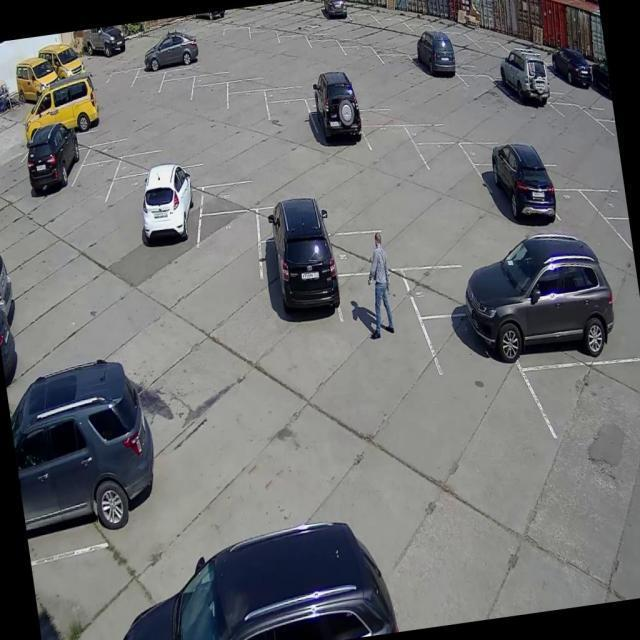car: (13, 416, 171, 544), (425, 316, 521, 446), (508, 274, 626, 360), (260, 228, 342, 338), (478, 156, 554, 241), (139, 191, 204, 266), (20, 137, 91, 194), (312, 94, 358, 158), (502, 74, 550, 130), (416, 46, 454, 100), (137, 46, 197, 80), (550, 53, 590, 101), (322, 0, 349, 24)
free: (30, 542, 184, 640), (540, 358, 640, 467), (338, 269, 416, 372), (404, 258, 506, 320), (192, 210, 266, 290), (328, 222, 418, 276), (364, 121, 422, 198), (553, 187, 608, 266), (418, 140, 473, 218), (252, 192, 340, 238), (104, 174, 156, 250), (201, 175, 287, 216), (70, 160, 119, 214), (459, 126, 516, 172), (558, 94, 604, 150), (116, 146, 184, 180), (405, 113, 458, 153), (588, 183, 630, 231), (462, 69, 500, 122), (534, 157, 585, 195), (146, 162, 214, 190), (88, 132, 148, 163), (271, 103, 311, 149), (230, 91, 268, 139), (342, 40, 380, 88), (356, 99, 410, 130), (380, 48, 416, 94), (310, 38, 348, 78), (436, 28, 474, 66), (278, 29, 311, 72), (160, 58, 210, 86), (377, 8, 413, 46), (192, 85, 228, 122), (474, 33, 514, 66), (264, 80, 308, 109), (249, 27, 280, 68), (230, 72, 274, 99), (135, 72, 165, 110), (191, 68, 237, 92), (162, 80, 195, 112), (410, 15, 440, 50), (222, 24, 250, 60), (109, 72, 139, 103), (350, 10, 378, 42)
